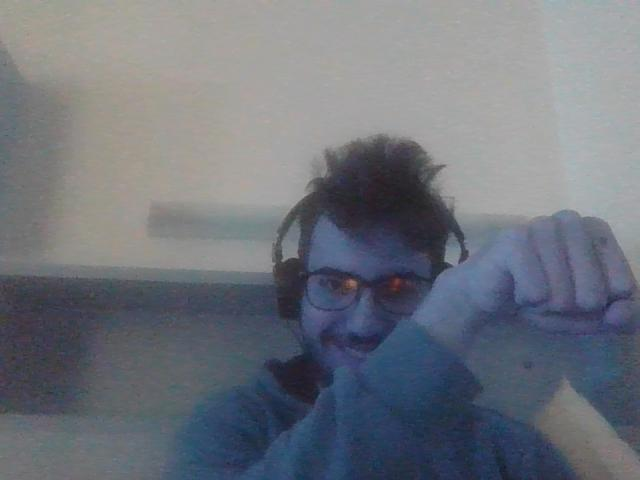yes: (481, 205, 640, 341)
